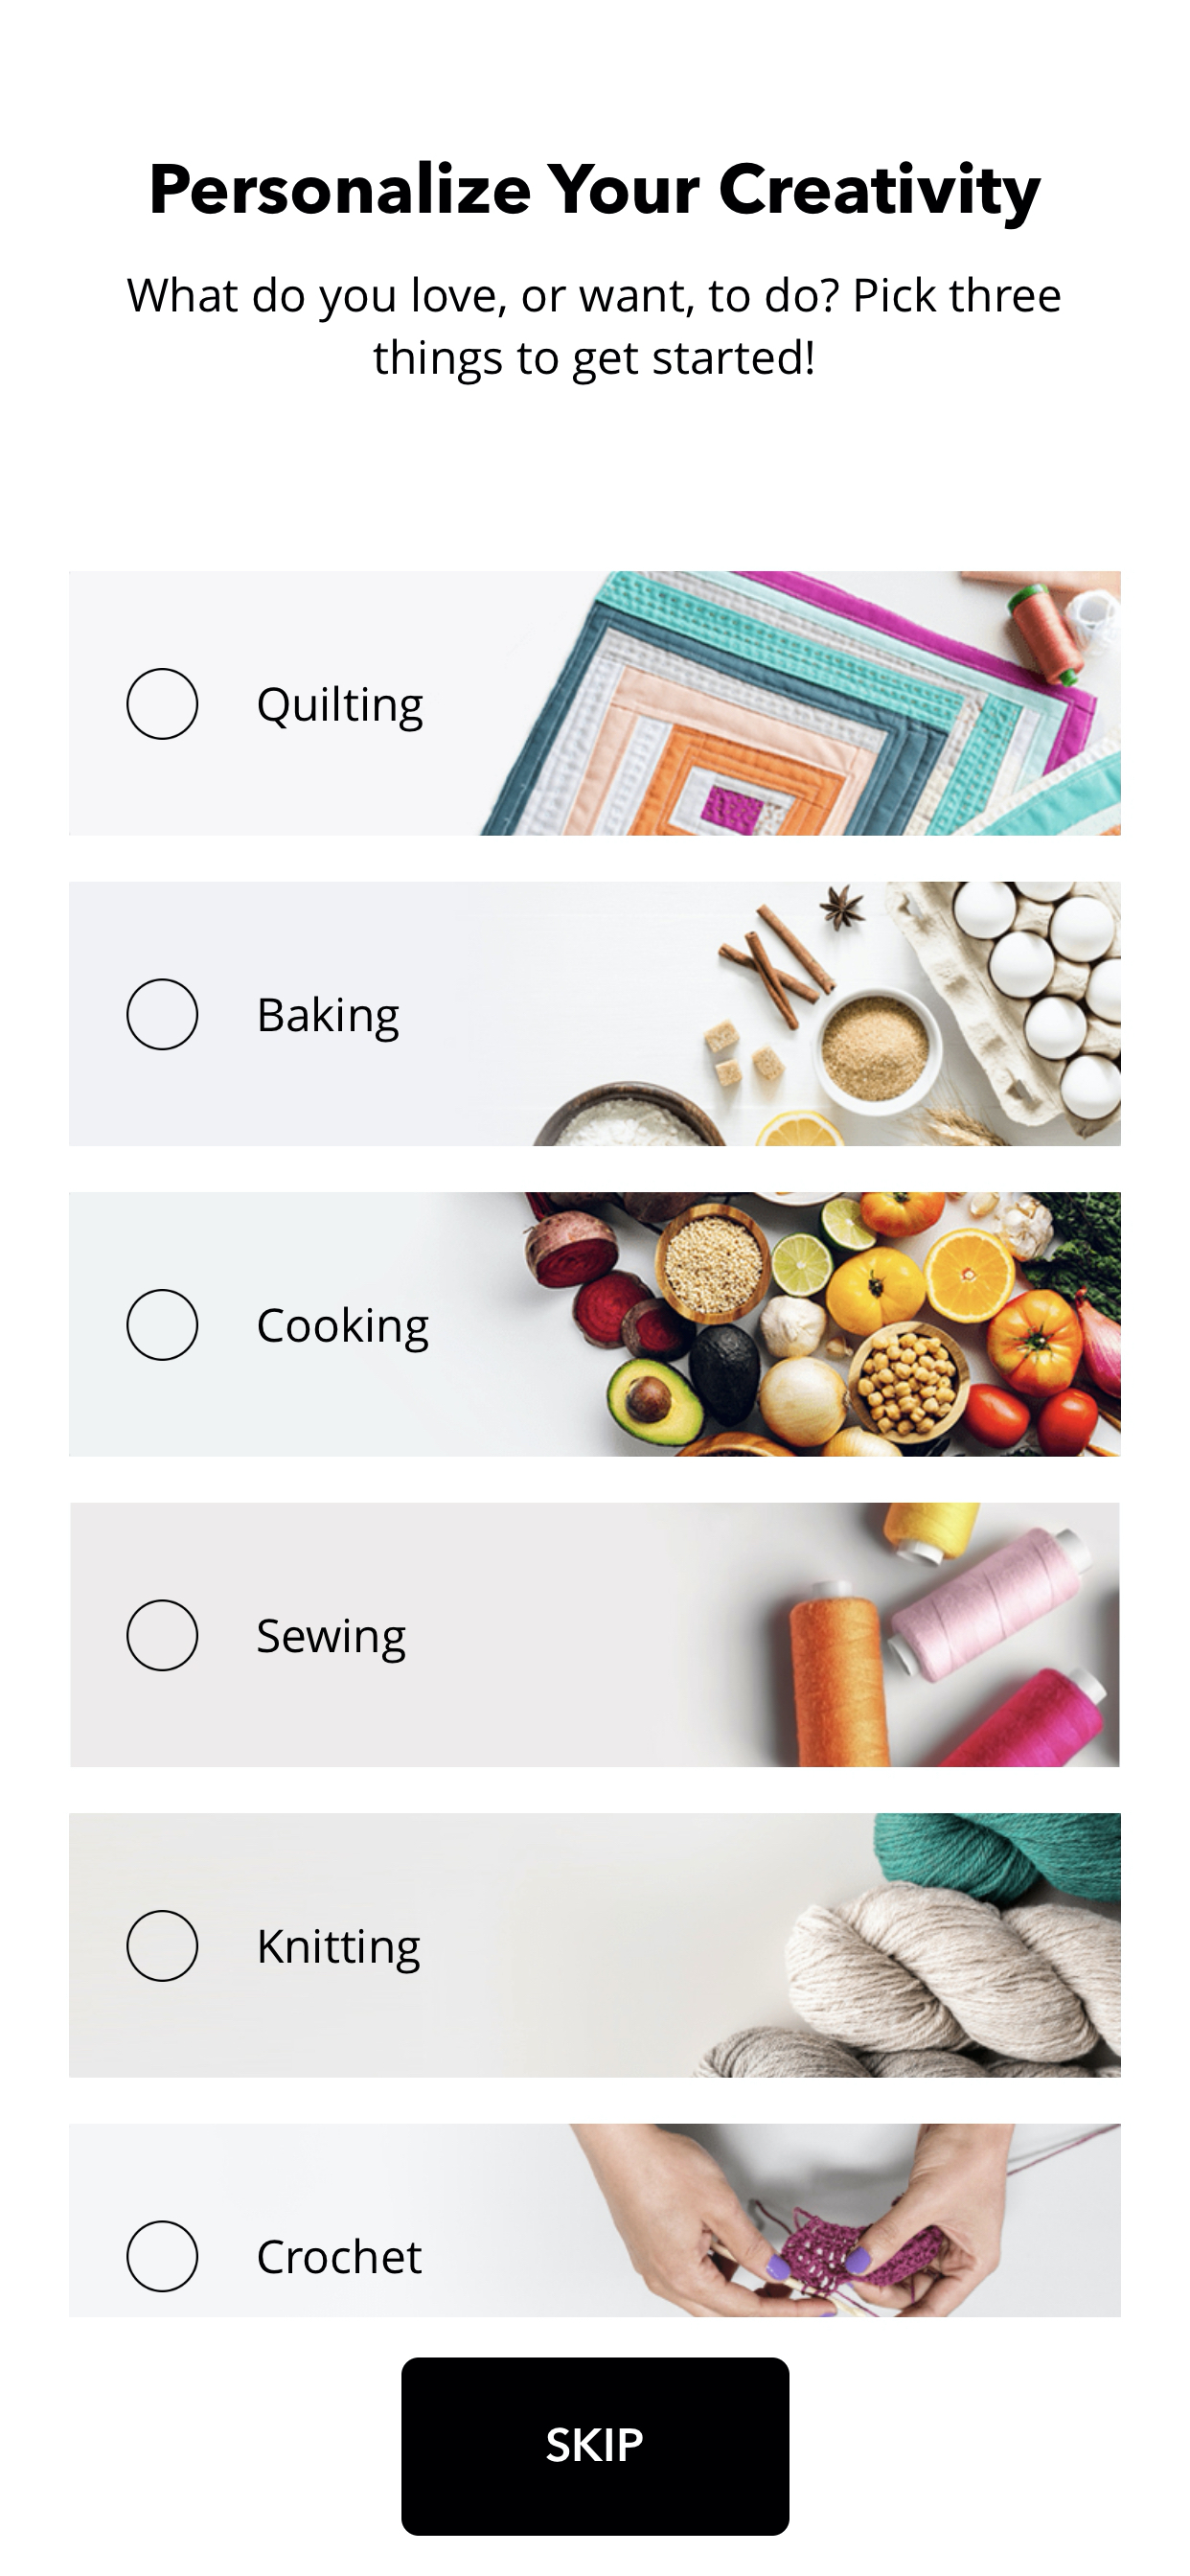CheckedTextView: (125, 1286, 431, 1364), (125, 665, 424, 743), (125, 1907, 421, 1985), (125, 2218, 424, 2293), (125, 976, 401, 1055), (128, 1600, 408, 1674)
Image: (71, 572, 1121, 836), (71, 882, 1121, 1147), (71, 1193, 1121, 1457), (71, 1814, 1121, 2078), (71, 1503, 1119, 1768), (71, 2124, 1121, 2316)
Text: (128, 278, 1060, 386), (153, 161, 1042, 232), (258, 1306, 429, 1354), (261, 1927, 421, 1975), (260, 687, 424, 733), (258, 1617, 406, 1664), (261, 996, 399, 1043), (260, 2238, 422, 2274)
TextButton: (403, 2357, 791, 2537)
